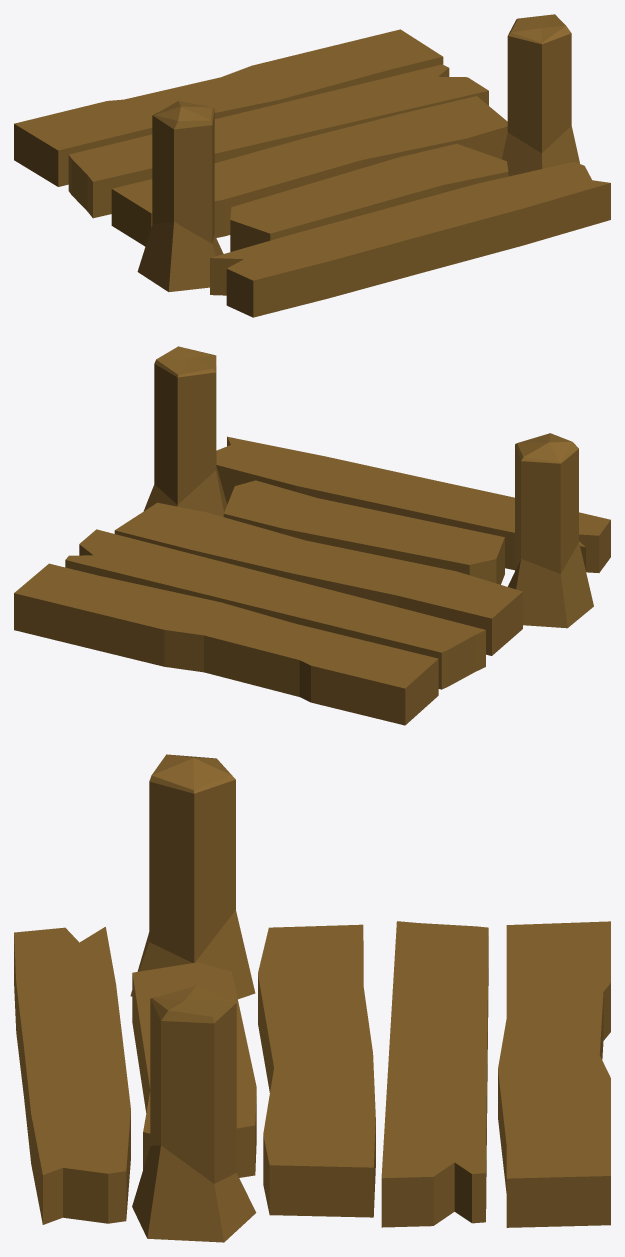
The model's file is BridgeEnd.fbx.
3 renders of one model, top to bottom at view 1: azimuth 30°, elevation 25°; view 2: azimuth 150°, elevation 25°; view 3: azimuth 270°, elevation 25°, orthographic. The views are drawn at different scales.
Visible parts, largest first — view 1: Circle.001; view 2: Circle.001; view 3: Circle.001.
Boxes of the visible parts, bbox=[...] form: Circle.001: bbox=[14, 14, 610, 317]; Circle.001: bbox=[14, 346, 610, 725]; Circle.001: bbox=[14, 754, 610, 1242].
Size of the model in its own units: 109 by 40.84 by 98.1.
